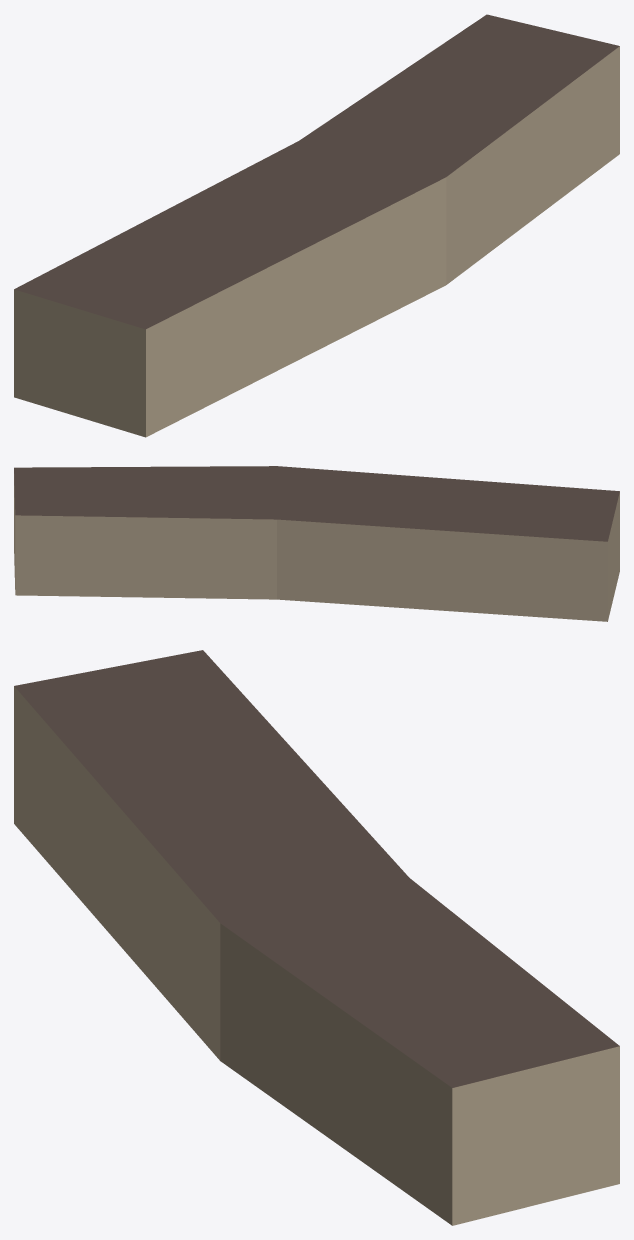
The picture shows the model from 3 angles, top to bottom: view 1: azimuth 30°, elevation 25°; view 2: azimuth 150°, elevation 25°; view 3: azimuth 270°, elevation 25°; orthographic projection. The views are drawn at different scales.
Visible parts, largest first — view 1: HP-w305412557; view 2: HP-w305412557; view 3: HP-w305412557.
Boxes of the visible parts, x1,y1,x2,y2 form: HP-w305412557: (14, 14, 619, 437); HP-w305412557: (14, 466, 619, 621); HP-w305412557: (14, 650, 619, 1225).
Size of the model in its own units: 61.33 by 9 by 35.86.
